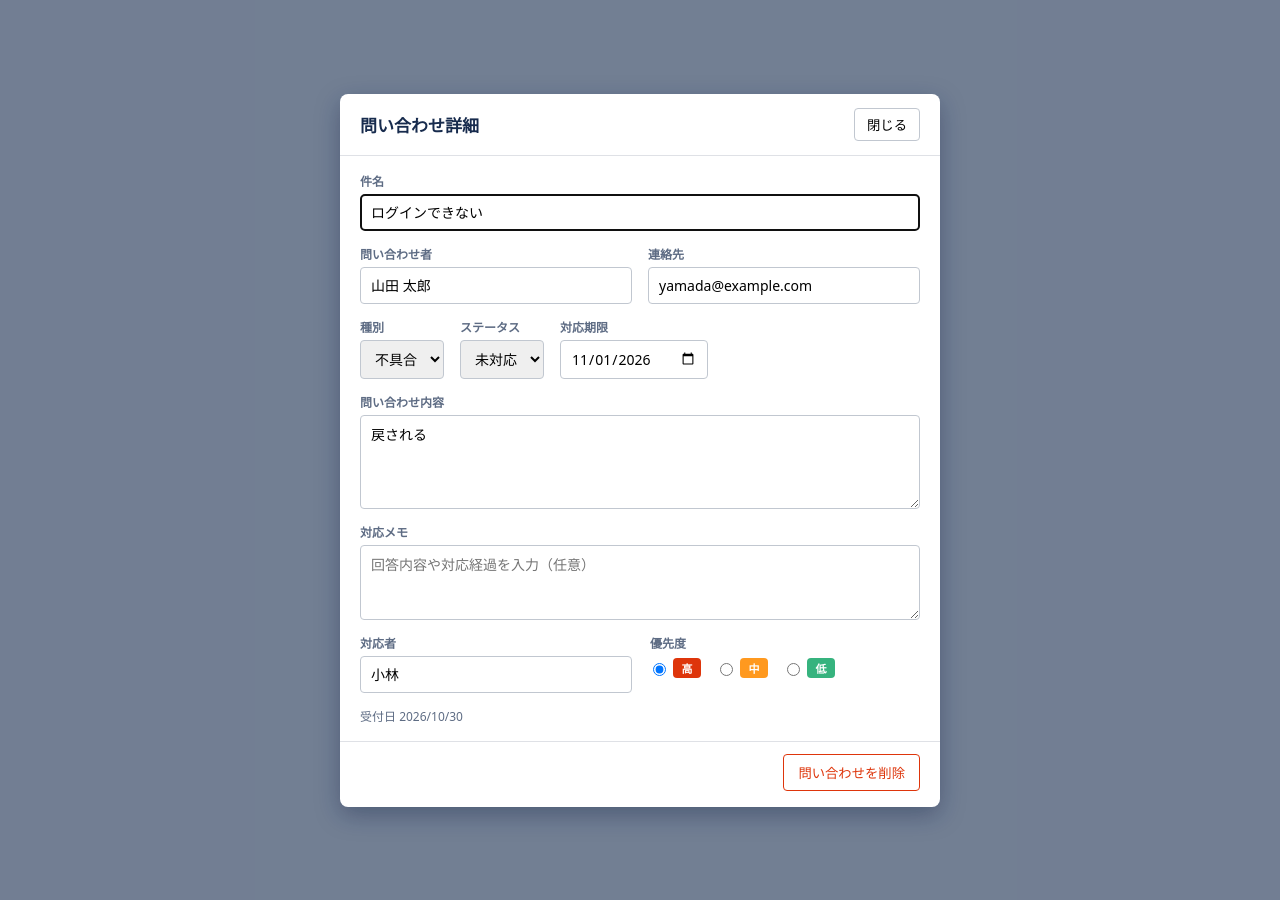
Scenario: InquiryDetail › 削除に失敗したらフッターに文言を出し、開いたままにする
Click the button "問い合わせを削除": {"x": 852, "y": 772} [783,754,920,790]
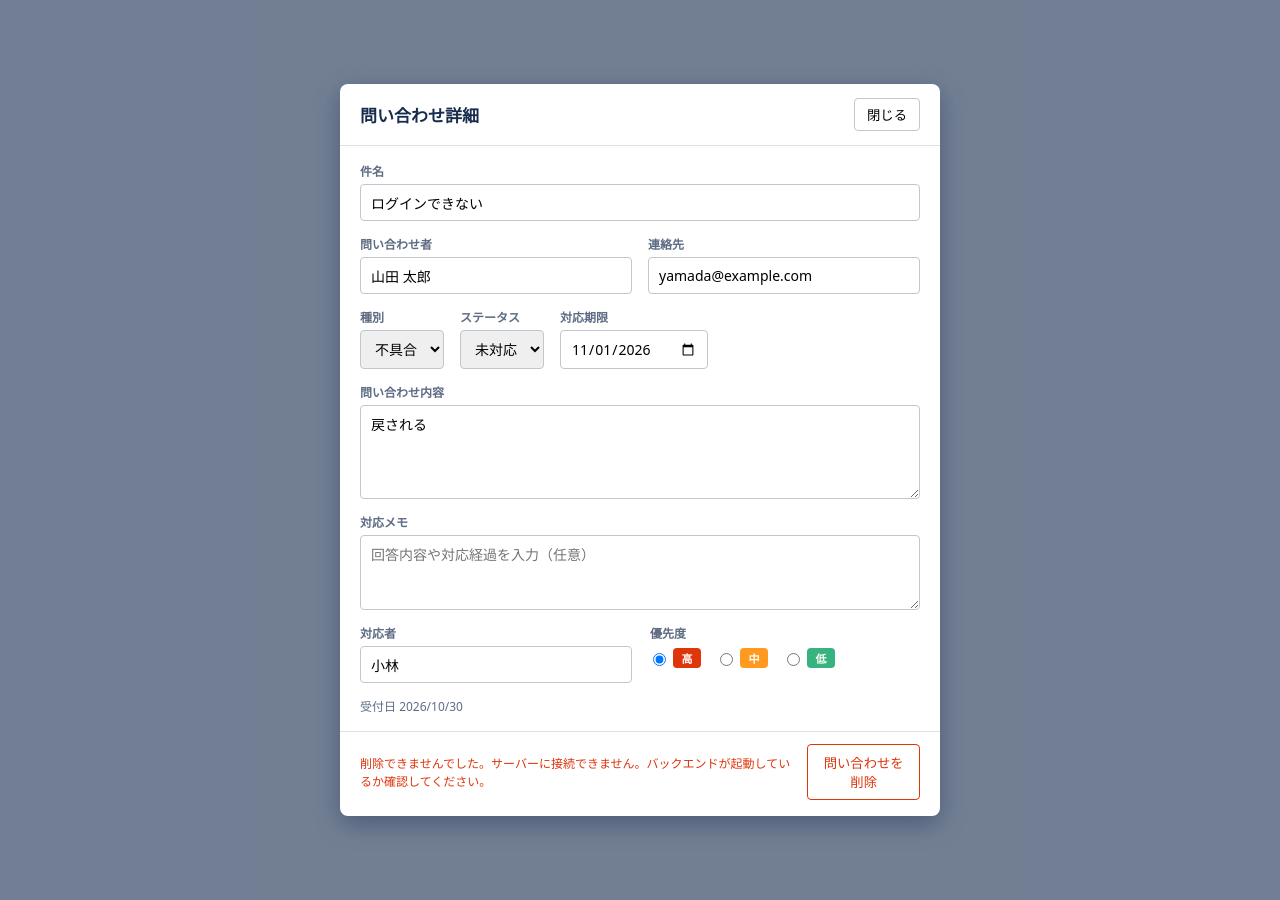
Expected: the dialog is shown, [340,84,940,816]
Expected: the message shows "削除できませんでした。サーバーに接続できません。", [360,754,795,790]
